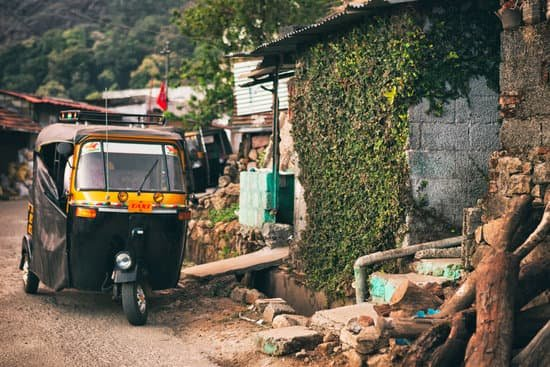threewheel: (19, 122, 192, 326)
